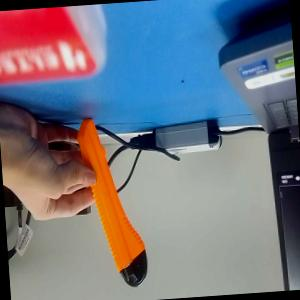estilete: (74, 113, 149, 291)
